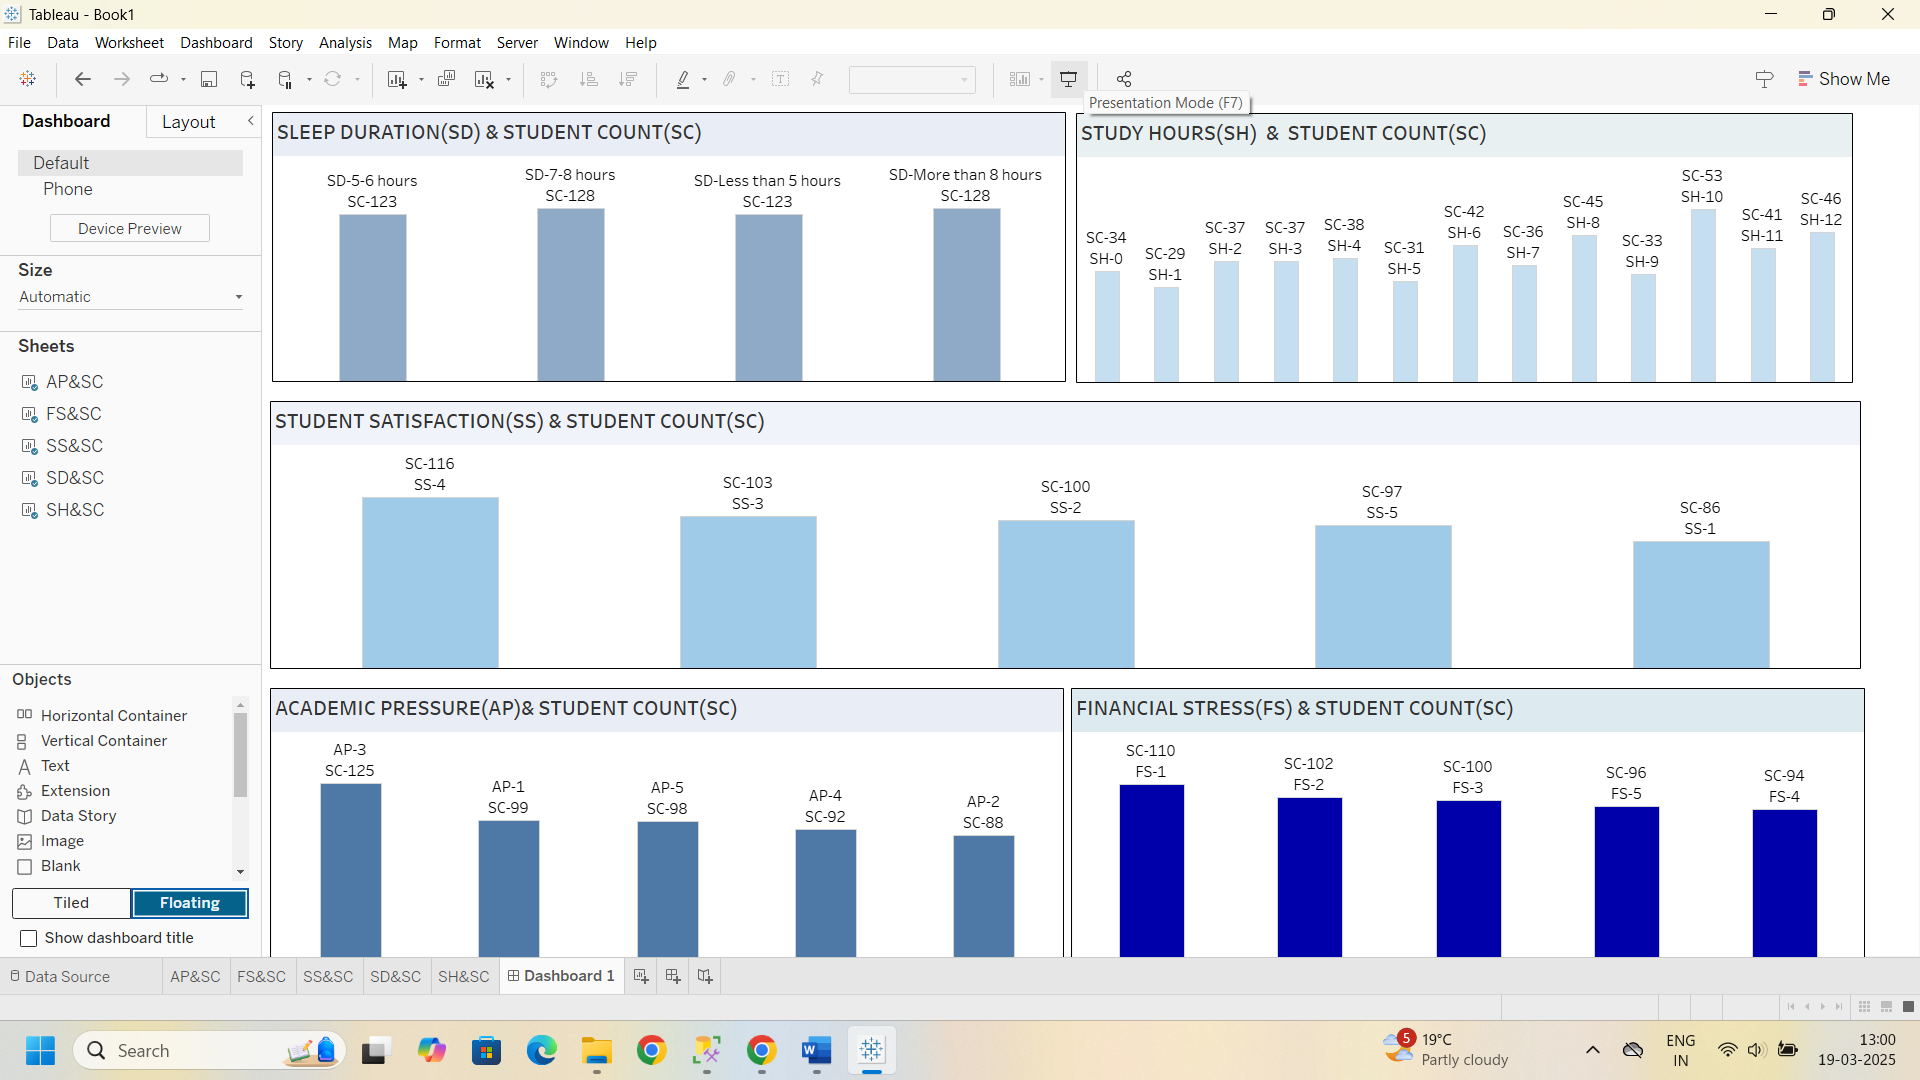

The page's visual inventory and layout, read from the dashboard file:
{"tool":"tableau","page":{"name":"Dashboard 1","canvas":[1000,1000],"units":"permille","ordinal":0},"visuals":[{"type":"worksheet","title":"SD&SC","mark":"Automatic","rows":["index_column"],"cols":["Sleep_Duration"],"box":[6,8.2,479.2,317.3]},{"type":"worksheet","title":"SH&SC","mark":"Bar","rows":["index_column"],"cols":["Study_Hours"],"box":[491.2,9.4,468.9,317.3]},{"type":"worksheet","title":"SS&SC","mark":"Bar","rows":["index_column"],"cols":["Study_Satisfaction"],"box":[4.8,347.8,960.2,314.9]},{"type":"worksheet","title":"AP&SC","mark":"Bar","rows":["index_column"],"cols":["Academic_Pressure"],"box":[4.8,685.1,479.2,317.3]},{"type":"worksheet","title":"FS&SC","mark":"Bar","rows":["index_column"],"cols":["Financial_Stress"],"box":[488.2,685.1,479.2,317.3]}]}

Visuals, with their boxes on the dashboard's canvas, which has no fixed pixel size, in thousandths of its width and height (x1, y1, x2, y2). These are canvas units, not pixel positions in the 1920x1080 screenshot, which may show the page scaled, cropped or inside an application window:
"SD&SC" worksheet: crop(6, 8, 485, 326)
"SH&SC" worksheet (Bar marks): crop(491, 9, 960, 327)
"SS&SC" worksheet (Bar marks): crop(5, 348, 965, 663)
"AP&SC" worksheet (Bar marks): crop(5, 685, 484, 1002)
"FS&SC" worksheet (Bar marks): crop(488, 685, 967, 1002)
